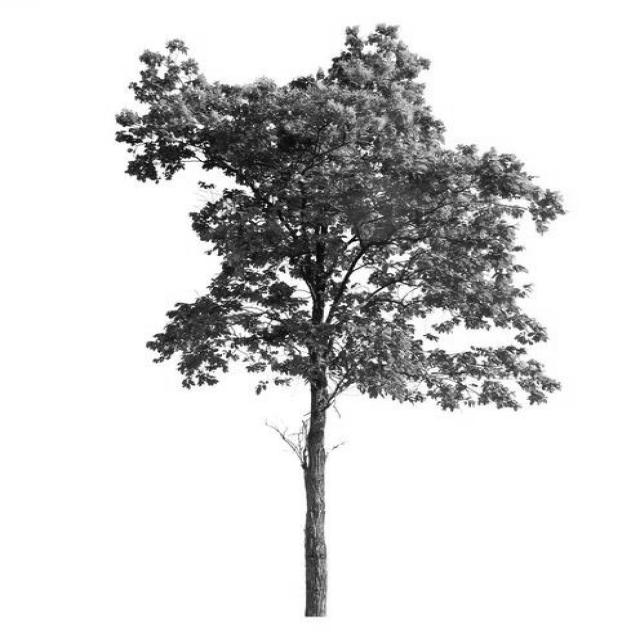Tree: (116, 25, 564, 617)
